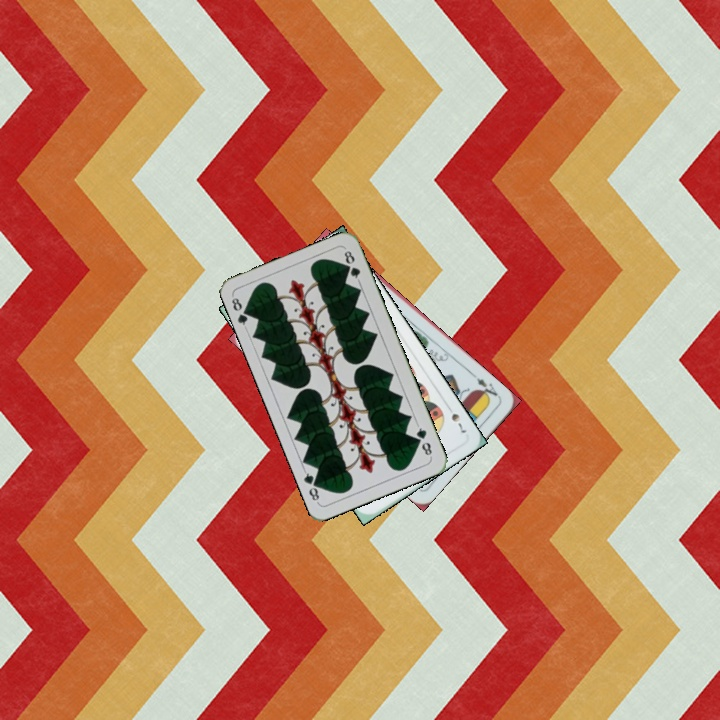EA: (469, 370, 502, 402)
G8: (227, 292, 254, 331), (412, 421, 435, 460)
S7: (447, 409, 469, 436)
